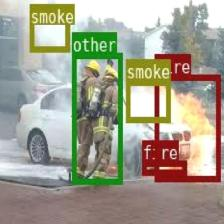fire: (154, 74, 219, 180), (142, 160, 186, 174)
smoke: (126, 79, 170, 122), (30, 3, 68, 51)
